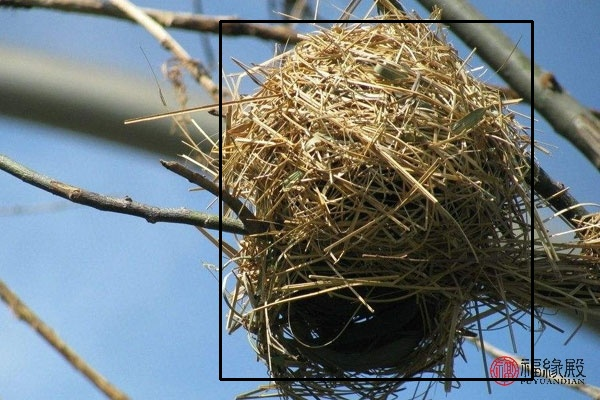bird-nest: (220, 21, 532, 379)
